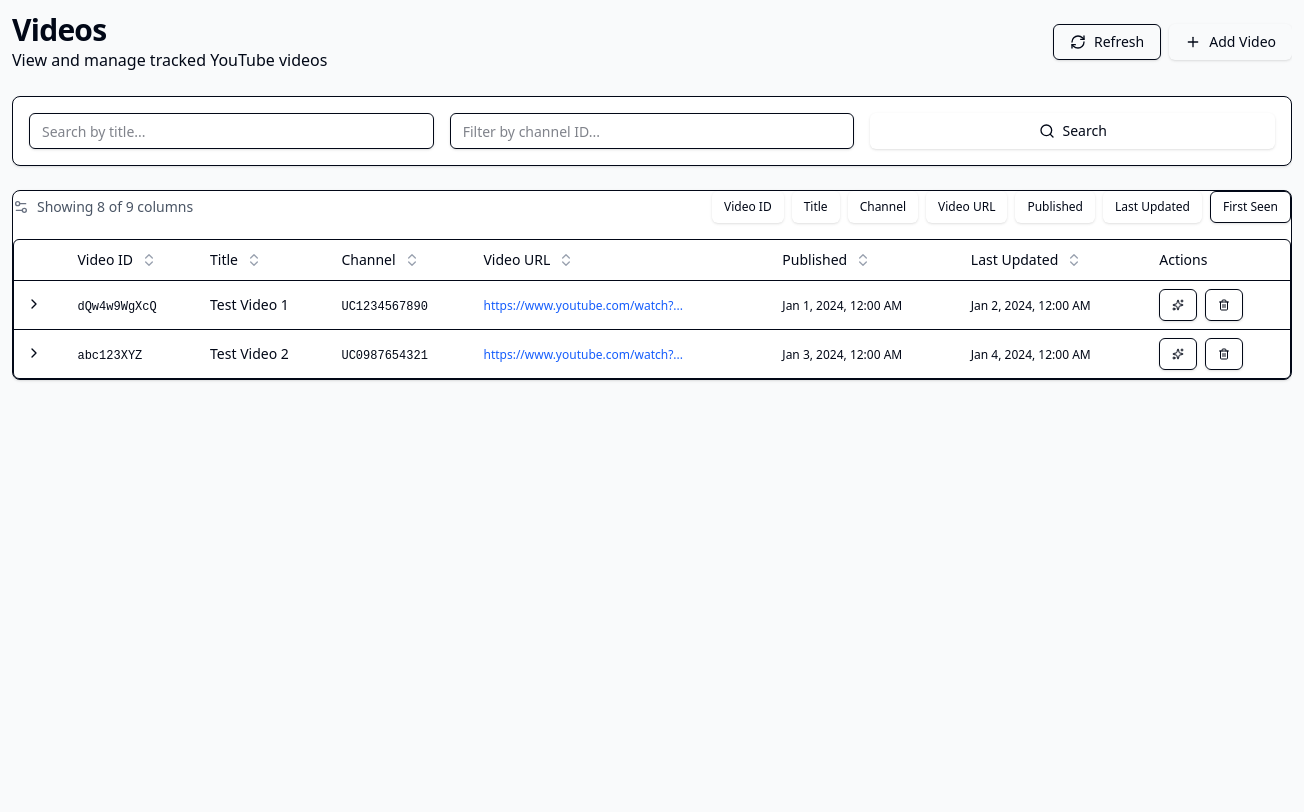
Scenario: Videos › should close create form when cancel is clicked
Expected: the text "Test Video 1" is shown, [210,294,289,314]
Click the button "Add Video".
click(1231, 42)  # box [1169,24,1292,60]
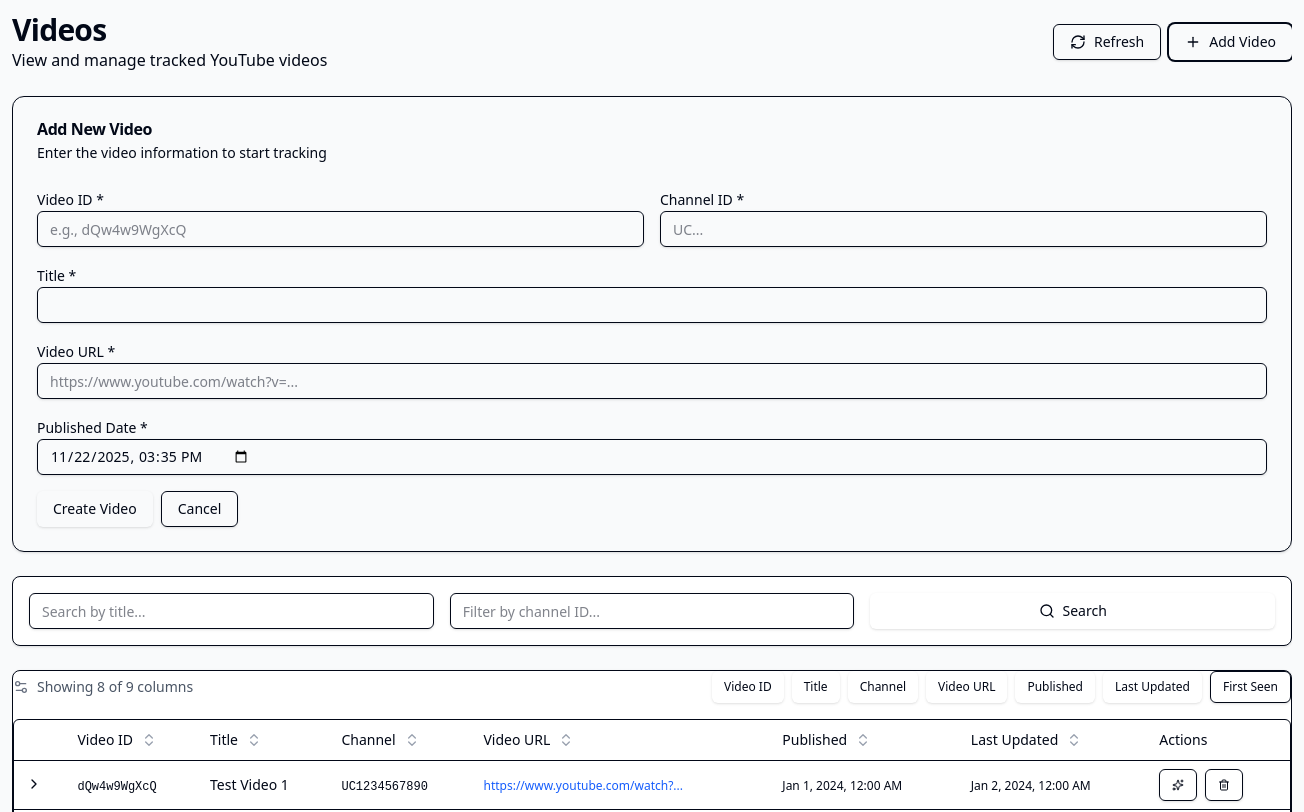
Expected: the heading "Add New Video" is shown, [37,118,152,140]
Click the button "Cancel".
click(200, 509)  # box [161,491,238,527]
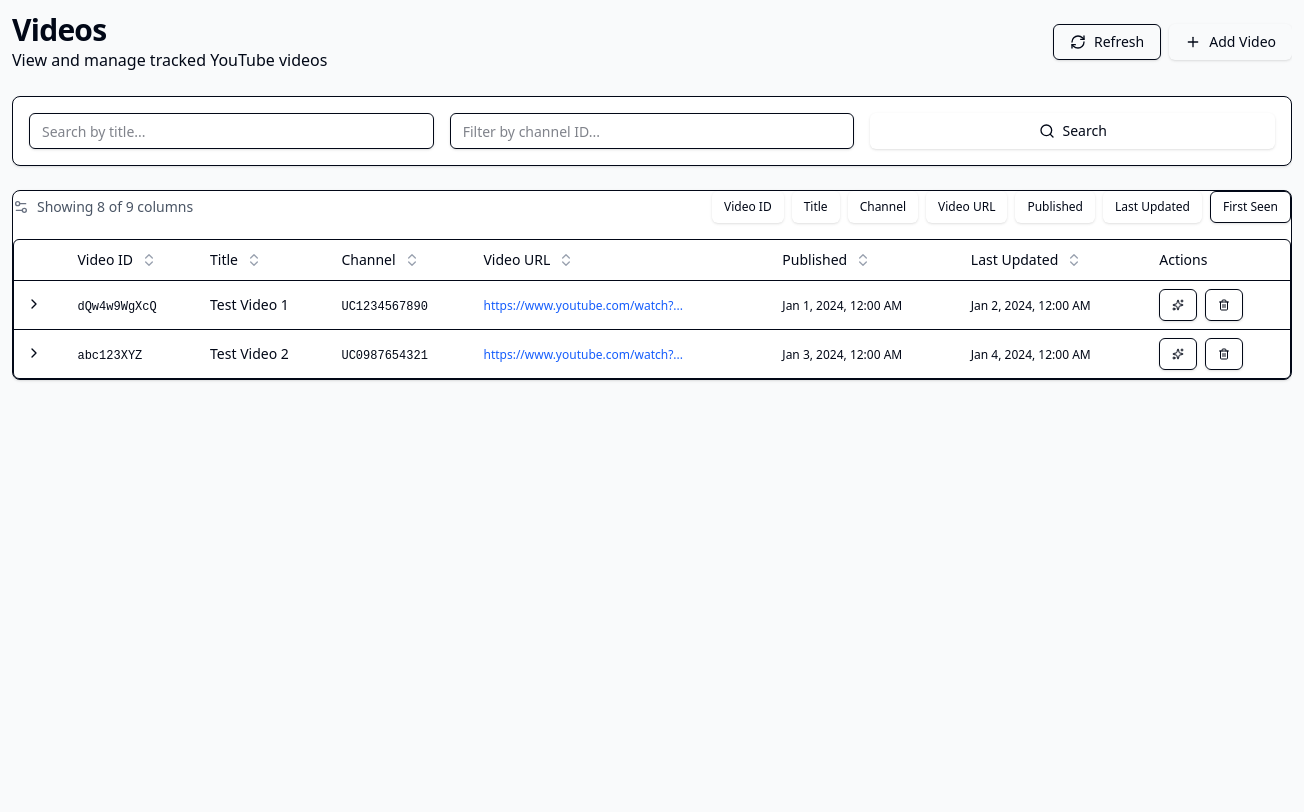
Expected: the heading "Add New Video" is gone
